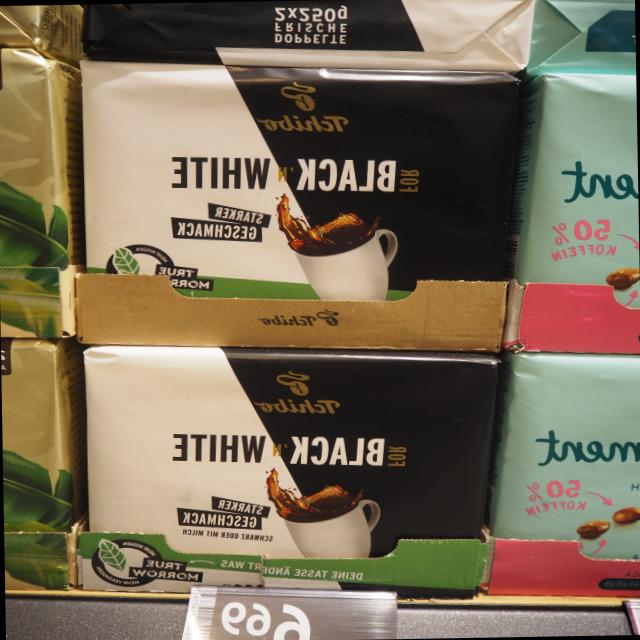BW Gemahlen: (72, 57, 532, 354), (80, 342, 501, 590)
